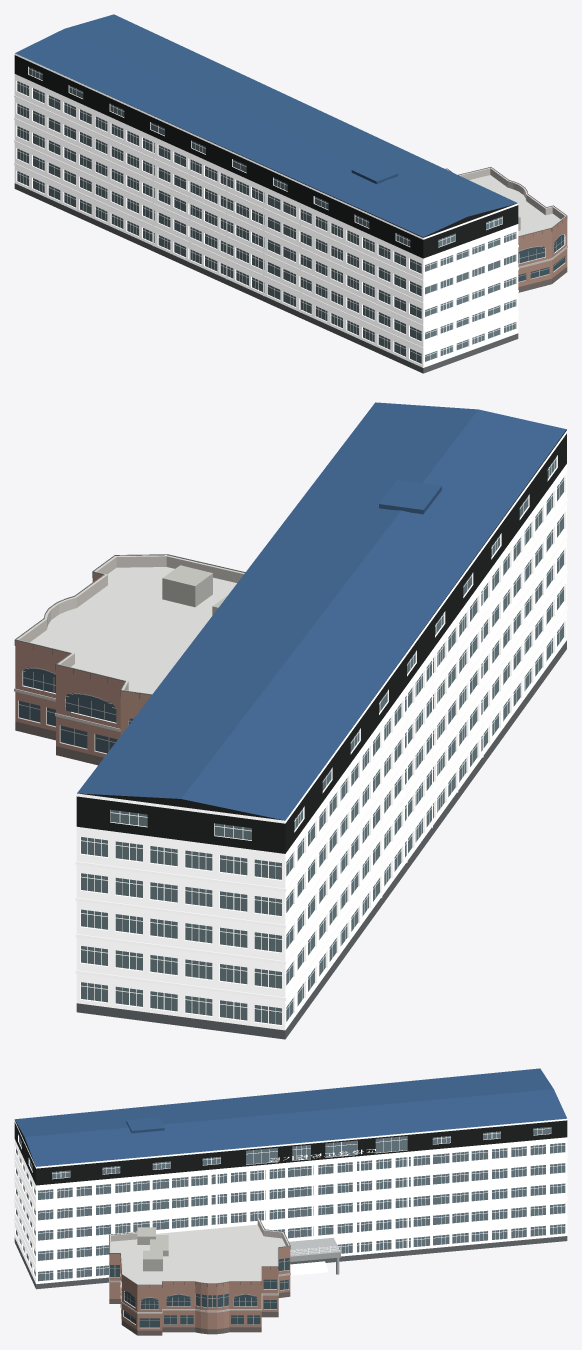
3 renders of one model, top to bottom at view 1: azimuth 30°, elevation 25°; view 2: azimuth 150°, elevation 25°; view 3: azimuth 270°, elevation 25°, orthographic. The views are drawn at different scales.
Visible parts, largest first — view 1: wing2__wall-plaster, wing2__roof, wing2__glass, wing2__trim-concrete, wing2__upper-dark-panel, wing2__frame, wing2__base-stone, wing2annex__wall-plaster, wing2annex__roof, wing2annex__trim-concrete, wing2annex__glass; view 2: wing2__roof, wing2__wall-plaster, wing2__glass, wing2__trim-concrete, wing2__upper-dark-panel, wing2annex__roof, wing2__frame, wing2annex__wall-plaster, wing2__base-stone, wing2annex__trim-concrete, wing2annex__glass, wing2annex__roof-box (+2 smaller); view 3: wing2__wall-plaster, wing2__roof, wing2__glass, wing2__trim-concrete, wing2__upper-dark-panel, wing2annex__roof, wing2annex__wall-plaster, wing2__frame, wing2annex__glass, wing2__base-stone, wing2annex__trim-concrete, wing2annex__base-stone (+4 smaller).
Boxes of the visible parts, x1,y1,x2,y2 form: wing2__wall-plaster: [14, 53, 518, 367]; wing2__roof: [15, 14, 517, 237]; wing2__glass: [17, 67, 515, 363]; wing2__trim-concrete: [14, 66, 518, 364]; wing2__upper-dark-panel: [14, 55, 518, 258]; wing2__frame: [17, 68, 515, 361]; wing2__base-stone: [14, 183, 518, 373]; wing2annex__wall-plaster: [518, 216, 567, 287]; wing2annex__roof: [469, 175, 560, 235]; wing2annex__trim-concrete: [446, 167, 567, 282]; wing2annex__glass: [518, 234, 564, 281]; wing2__roof: [77, 402, 566, 820]; wing2__wall-plaster: [76, 430, 566, 1030]; wing2__glass: [81, 457, 563, 1024]; wing2__trim-concrete: [75, 455, 567, 1025]; wing2__upper-dark-panel: [76, 429, 566, 853]; wing2annex__roof: [30, 567, 236, 694]; wing2__frame: [80, 458, 564, 1023]; wing2annex__wall-plaster: [15, 572, 151, 757]; wing2__base-stone: [76, 640, 566, 1039]; wing2annex__trim-concrete: [14, 555, 244, 754]; wing2annex__glass: [19, 667, 134, 753]; wing2annex__roof-box: [162, 565, 227, 615]; wing2__wall-plaster: [14, 1118, 567, 1284]; wing2__roof: [15, 1068, 566, 1166]; wing2__glass: [16, 1127, 565, 1281]; wing2__trim-concrete: [14, 1127, 567, 1281]; wing2__upper-dark-panel: [14, 1120, 567, 1185]; wing2annex__roof: [111, 1224, 285, 1284]; wing2annex__wall-plaster: [109, 1246, 290, 1330]; wing2__frame: [19, 1128, 565, 1280]; wing2annex__glass: [110, 1258, 289, 1327]; wing2__base-stone: [14, 1236, 567, 1289]; wing2annex__trim-concrete: [109, 1218, 290, 1328]; wing2annex__base-stone: [109, 1291, 290, 1335].
Size of the model in its own units: 55.28 by 22.85 by 89.05.
